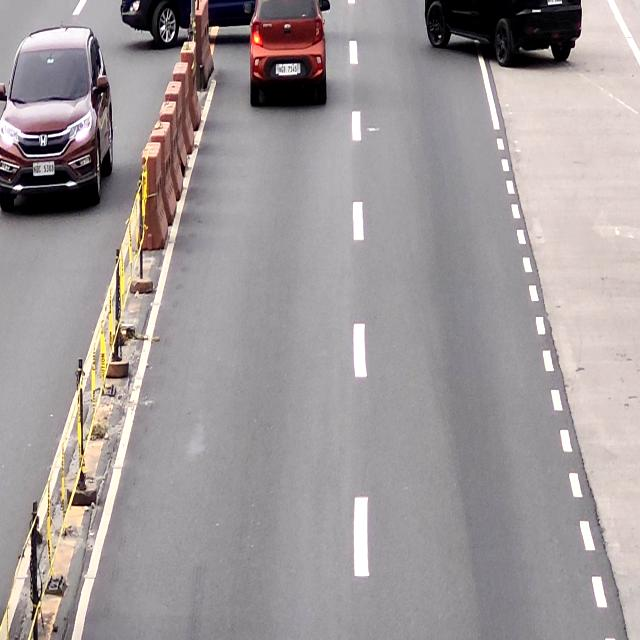Car: (118, 0, 331, 49), (241, 0, 333, 113), (423, 0, 582, 63)
License-Plate: (278, 62, 298, 77)
